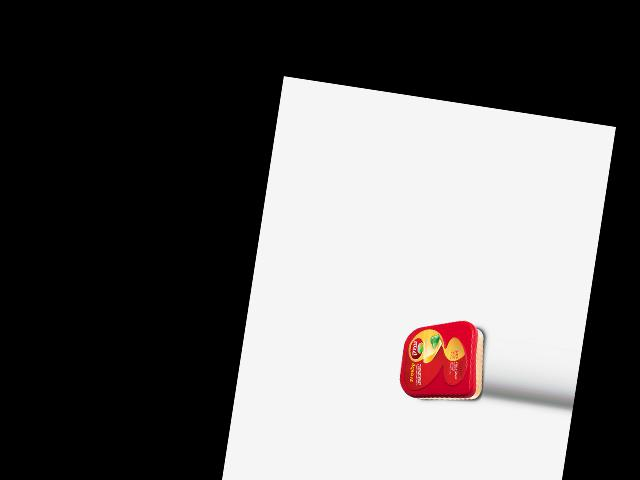cheese: (396, 312, 491, 407)
